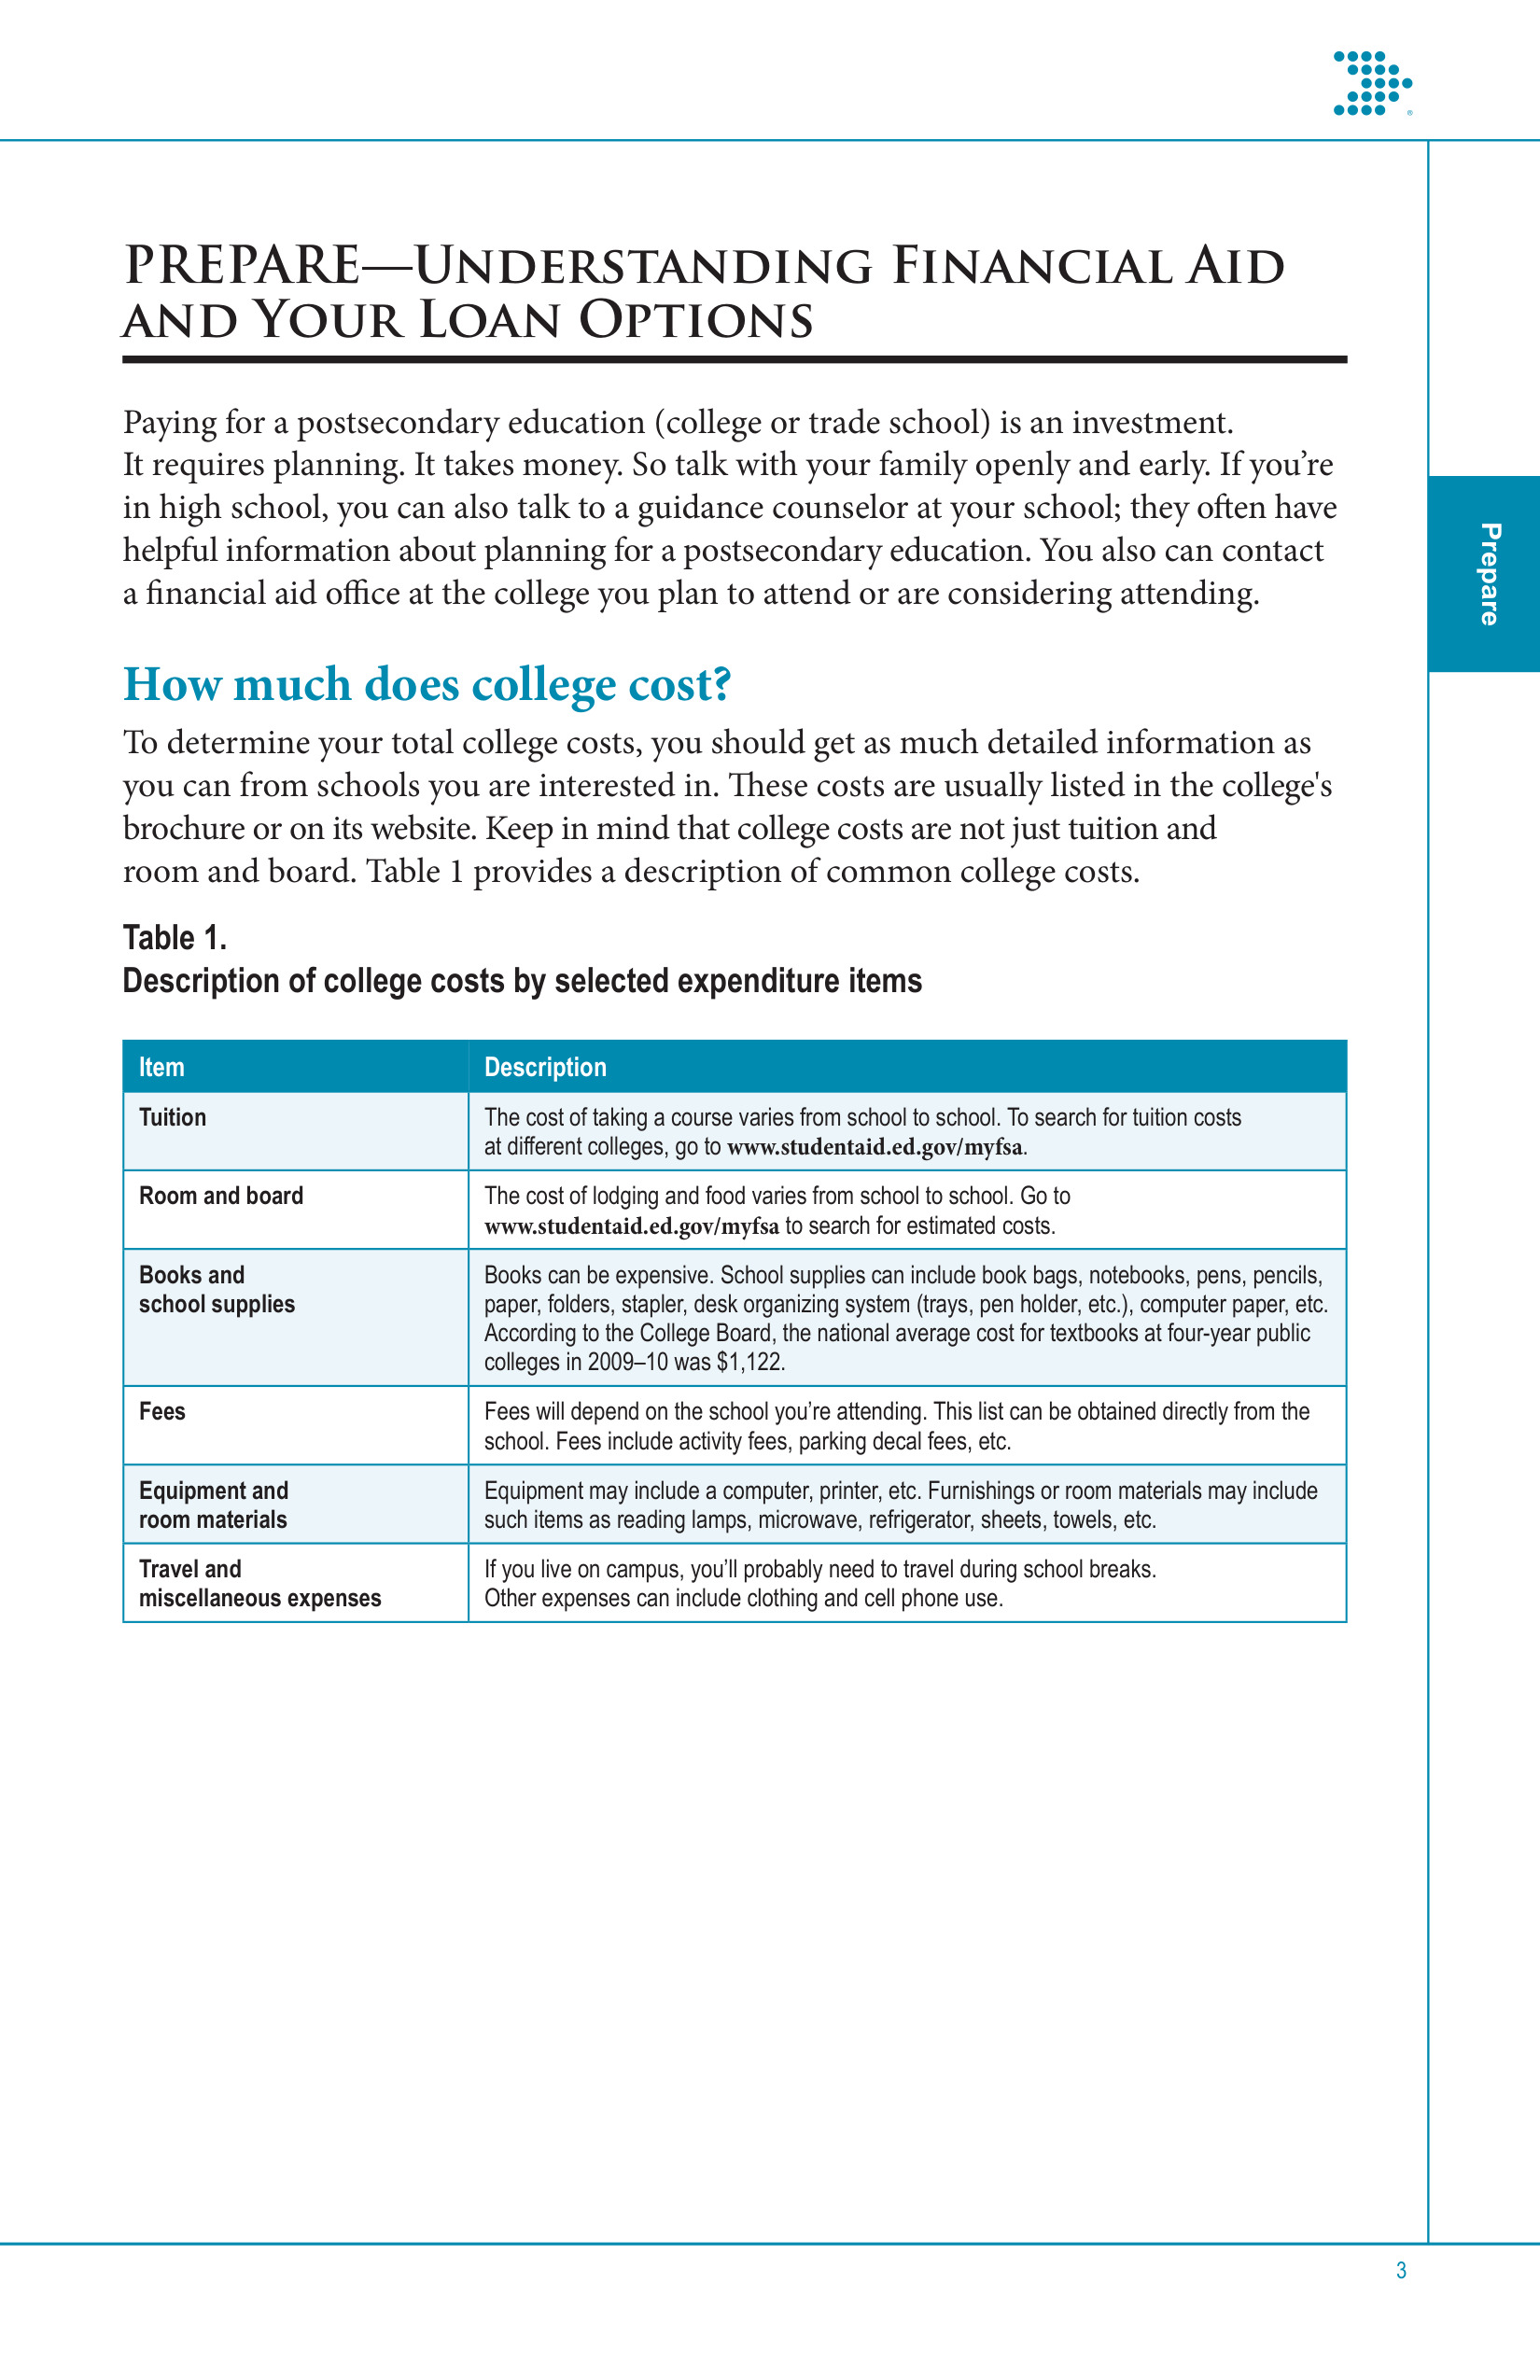table: (139, 1049, 1328, 1612)
